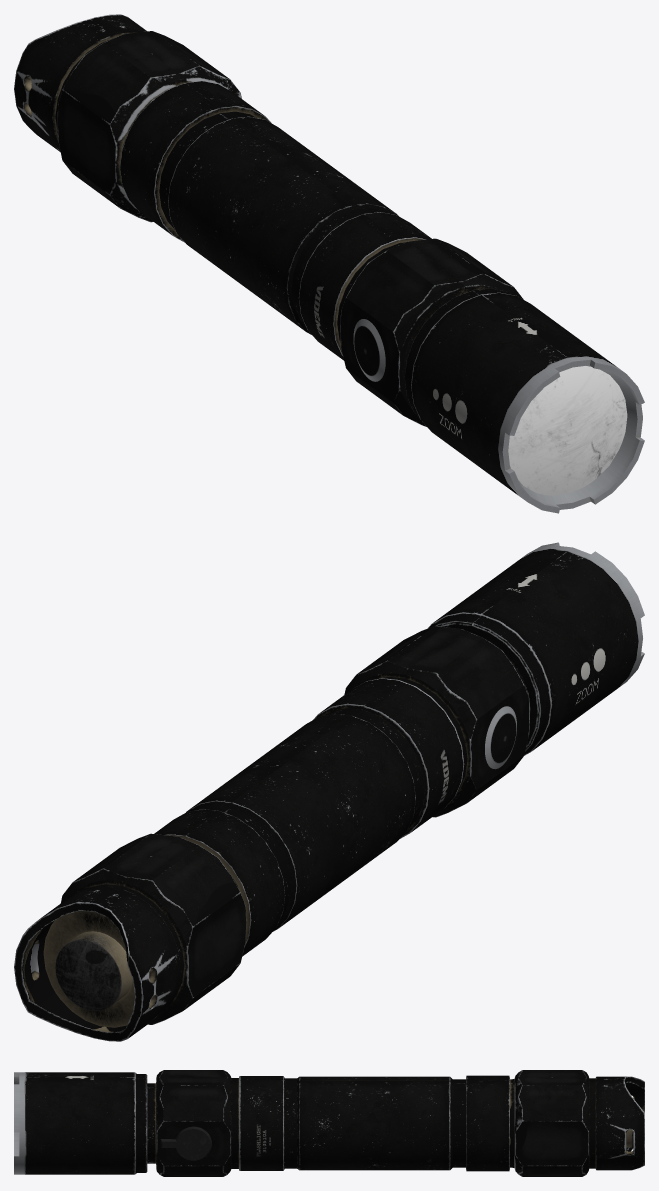
File: Flashlight.obj
The picture shows the model from 3 angles, top to bottom: view 1: azimuth 30°, elevation 25°; view 2: azimuth 150°, elevation 25°; view 3: azimuth 270°, elevation 25°; orthographic projection. The views are drawn at different scales.
Parts seen in each view (by area): view 1: Flashlight; view 2: Flashlight; view 3: Flashlight.
Part boxes in pixels (x1=…): Flashlight: x1=14, y1=14, x2=644, y2=513; Flashlight: x1=14, y1=542, x2=644, y2=1041; Flashlight: x1=14, y1=1070, x2=644, y2=1176.
Size of the model in its own units: 0.0211 by 0.0211 by 0.1298.
1 material, 1 textured.
